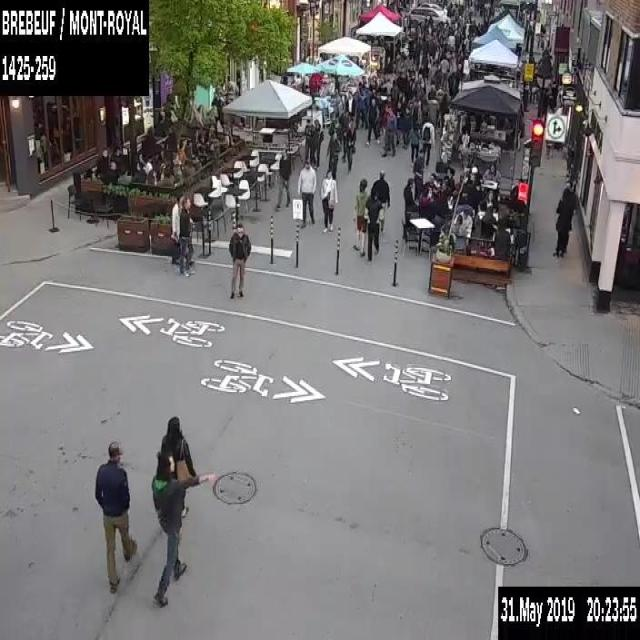pedestrian: (150, 454, 215, 606), (94, 440, 136, 595), (160, 417, 198, 517), (227, 223, 250, 297), (352, 178, 369, 262), (298, 156, 315, 227), (552, 193, 571, 256), (373, 168, 389, 238), (180, 190, 193, 276), (169, 192, 182, 277), (320, 169, 337, 231), (366, 188, 381, 258), (487, 218, 511, 259), (274, 150, 290, 210), (562, 179, 578, 229), (142, 126, 164, 160), (326, 127, 340, 179), (381, 108, 396, 156), (365, 96, 378, 146), (421, 116, 434, 166), (344, 117, 355, 173), (312, 117, 324, 166), (408, 122, 420, 165), (99, 158, 120, 182), (304, 115, 314, 165), (544, 80, 558, 112), (393, 99, 403, 143), (482, 160, 501, 182), (402, 104, 410, 149), (421, 175, 436, 199), (402, 177, 415, 204), (438, 55, 448, 89), (450, 213, 464, 237), (481, 189, 496, 211), (130, 161, 146, 181), (453, 208, 472, 224), (345, 89, 355, 118), (156, 168, 173, 185), (95, 148, 108, 169), (445, 167, 454, 190), (141, 157, 152, 174), (539, 21, 545, 48)
vehicle: (408, 7, 448, 26)
